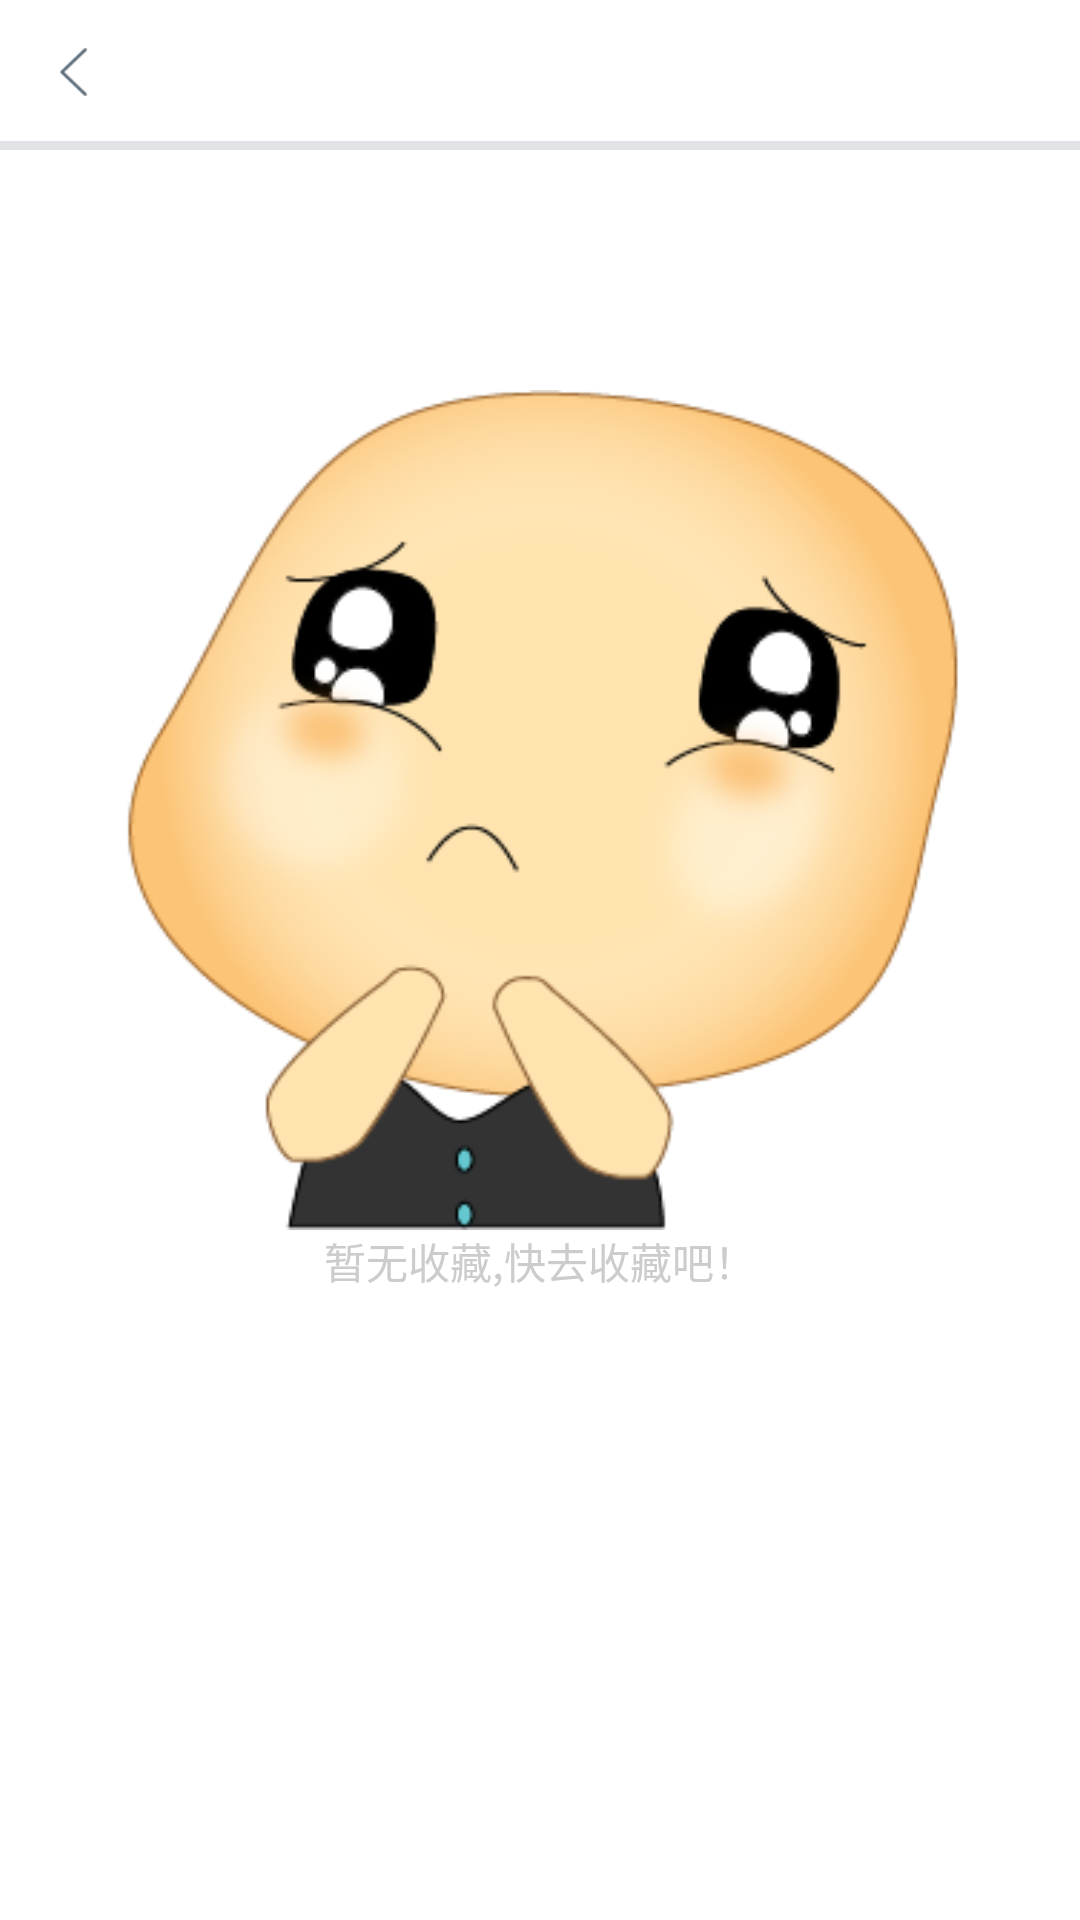

Screen size 1080w x 1920h. Icon name, then its box in pixels as (x1, y1, x2, y2):
back: (60, 48, 87, 96)
